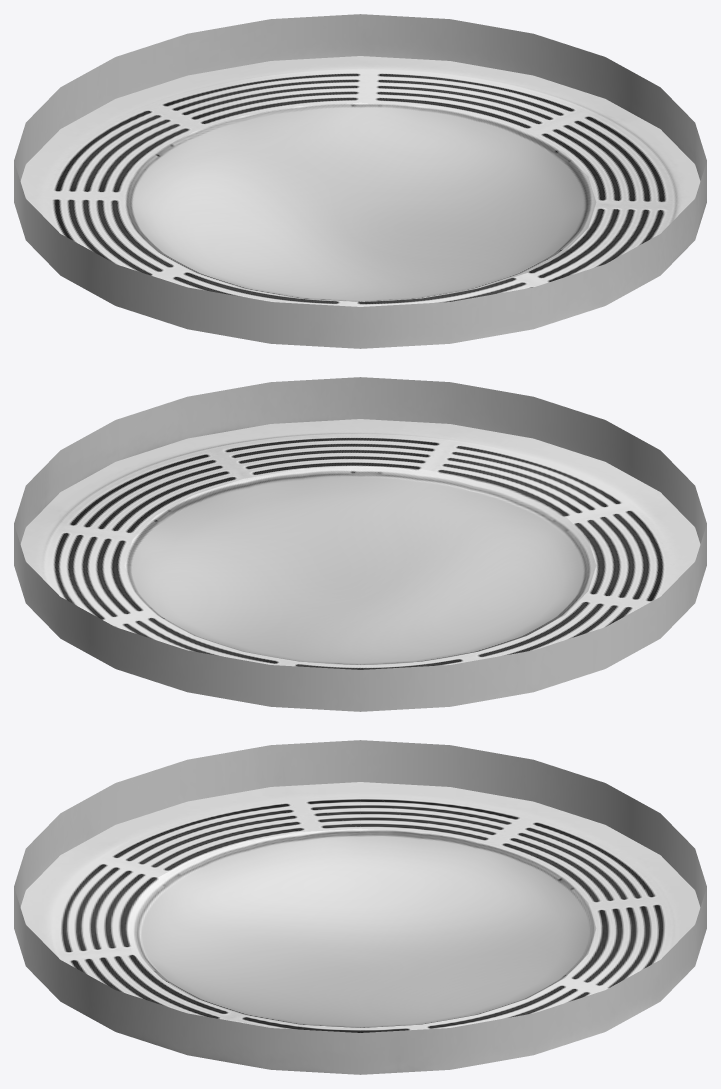
The model's file is VentCover01_2.FBX.
The picture shows the model from 3 angles, top to bottom: view 1: azimuth 30°, elevation 25°; view 2: azimuth 150°, elevation 25°; view 3: azimuth 270°, elevation 25°; orthographic projection.
Visible parts, largest first — view 1: VentCover01_2; view 2: VentCover01_2; view 3: VentCover01_2.
Boxes of the visible parts, x1,y1,x2,y2 form: VentCover01_2: [14, 14, 706, 348]; VentCover01_2: [14, 377, 706, 711]; VentCover01_2: [14, 740, 706, 1074].
Size of the model in its own units: 30 by 3.41 by 30.
